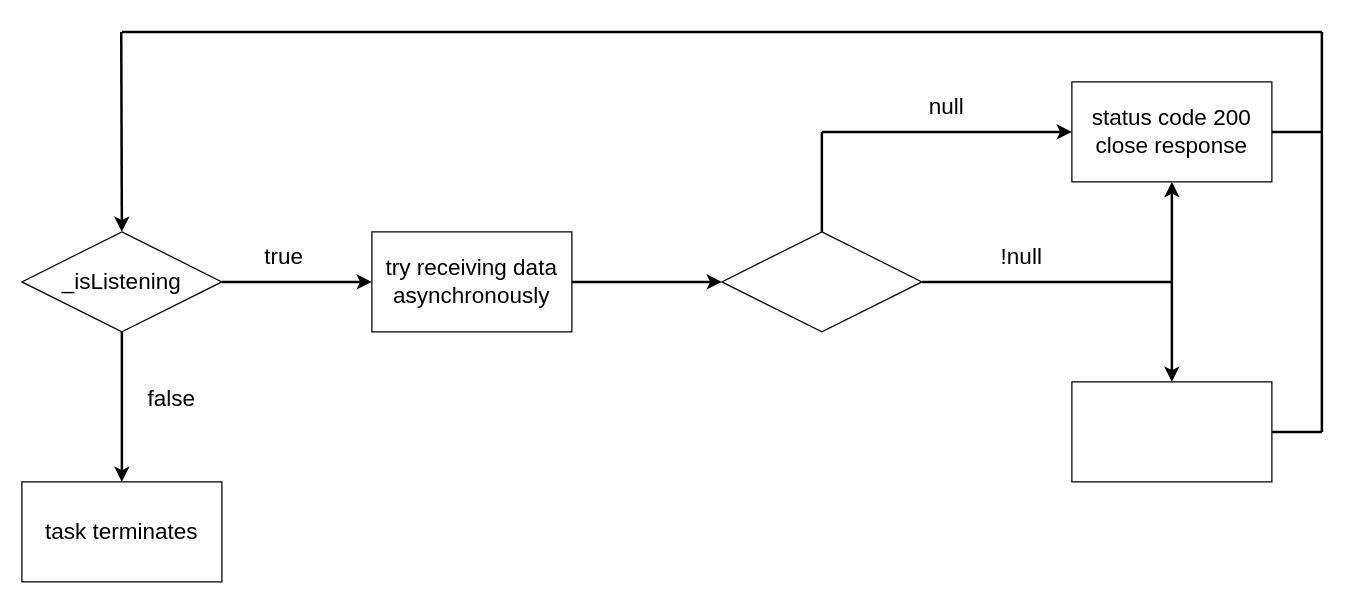
Image size: 1346x604. Some labels were removed from this diagram. The shapes that lost their labels are listed below. From the top down, each one's centre as x and y in pixels, then its label:
(x=821, y=281): data
(x=1171, y=431): save to database raise event
